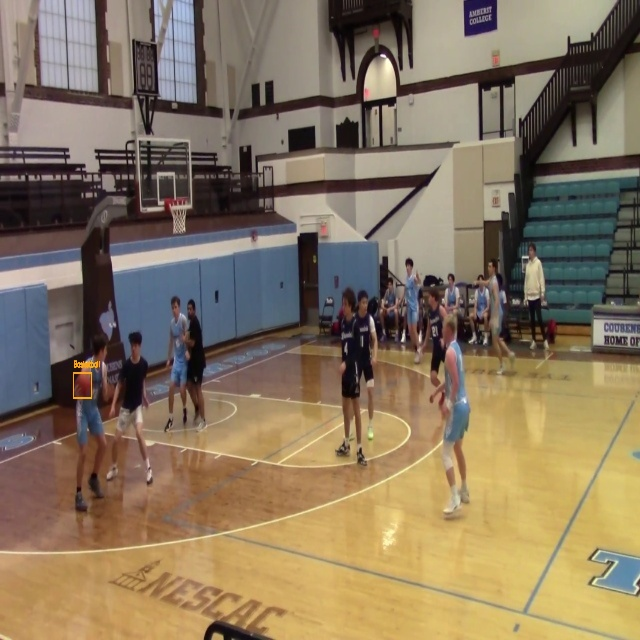Basketball: (74, 373, 92, 398)
